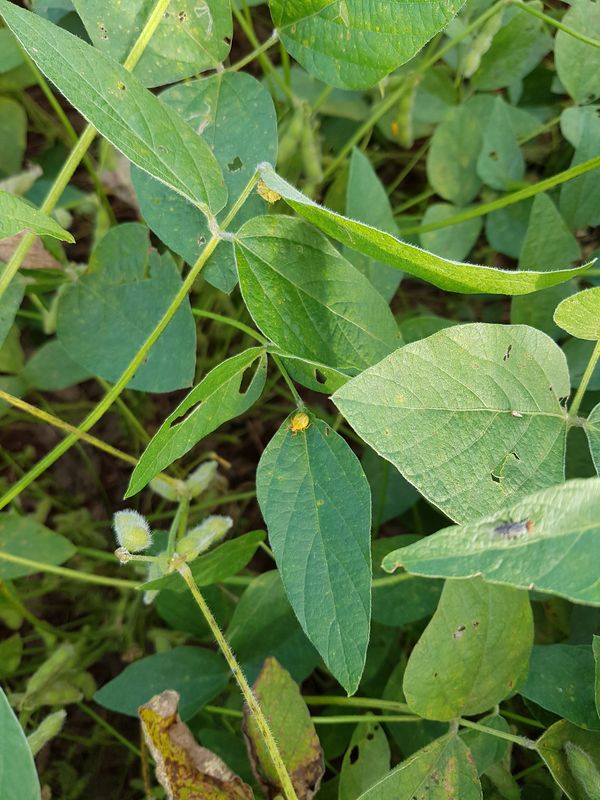Euschistus_heros_ninfa: (281, 409, 317, 441)
